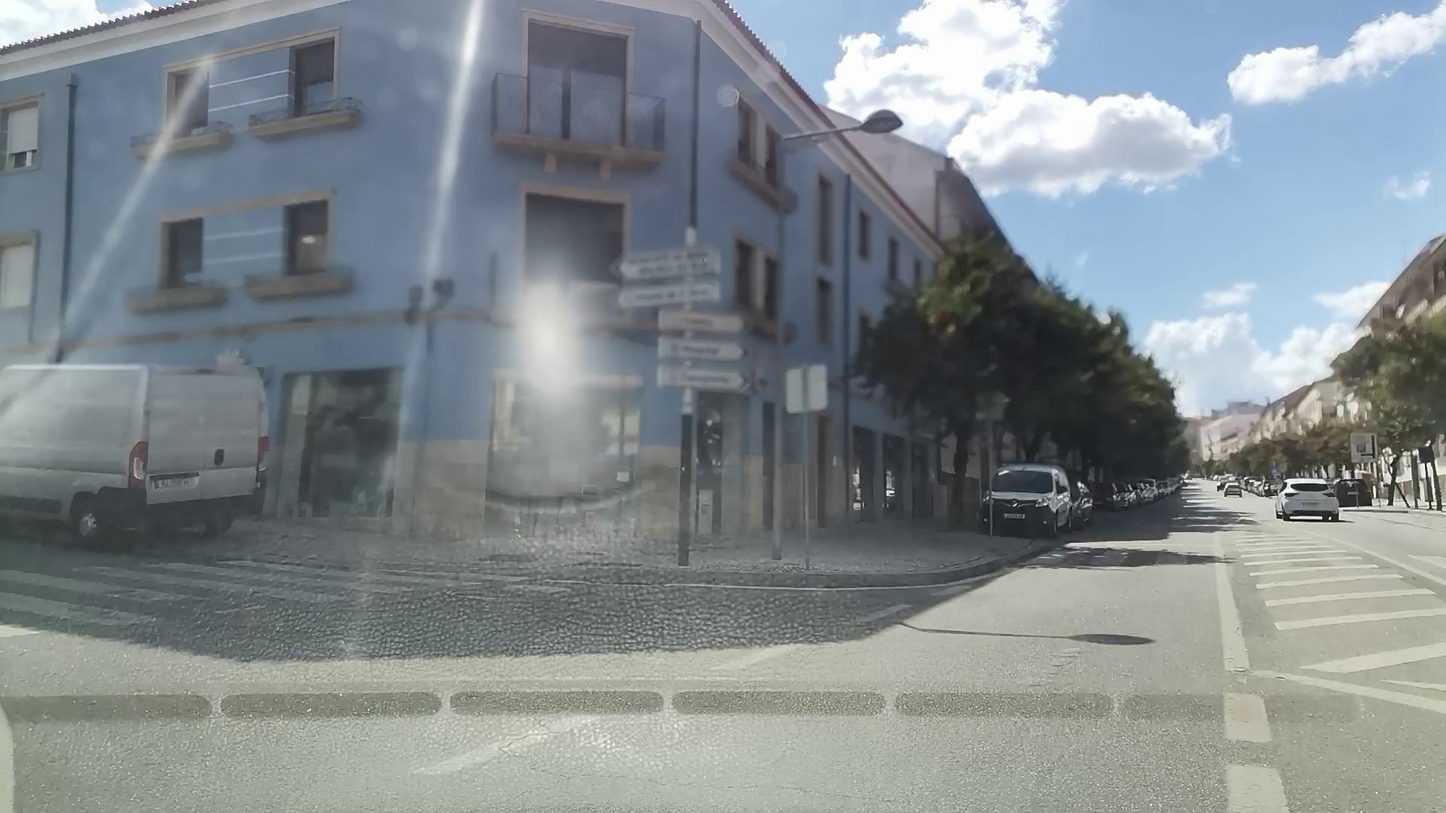Stairs: (0, 560, 507, 652)
